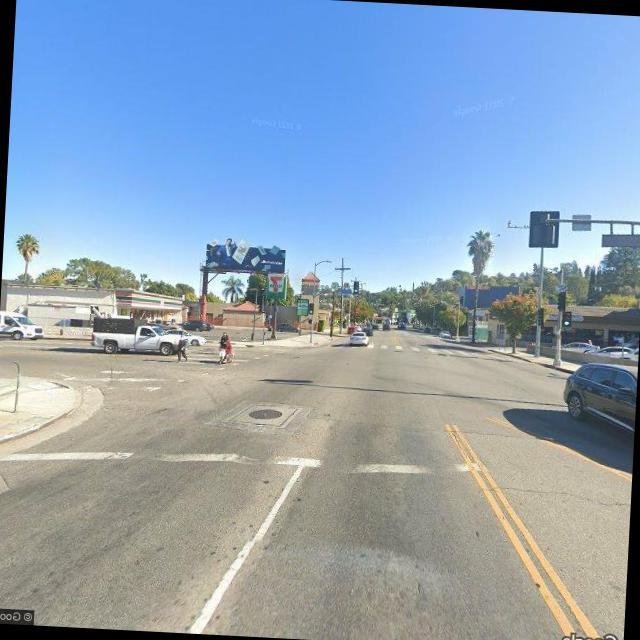crack: (501, 478, 632, 509)
